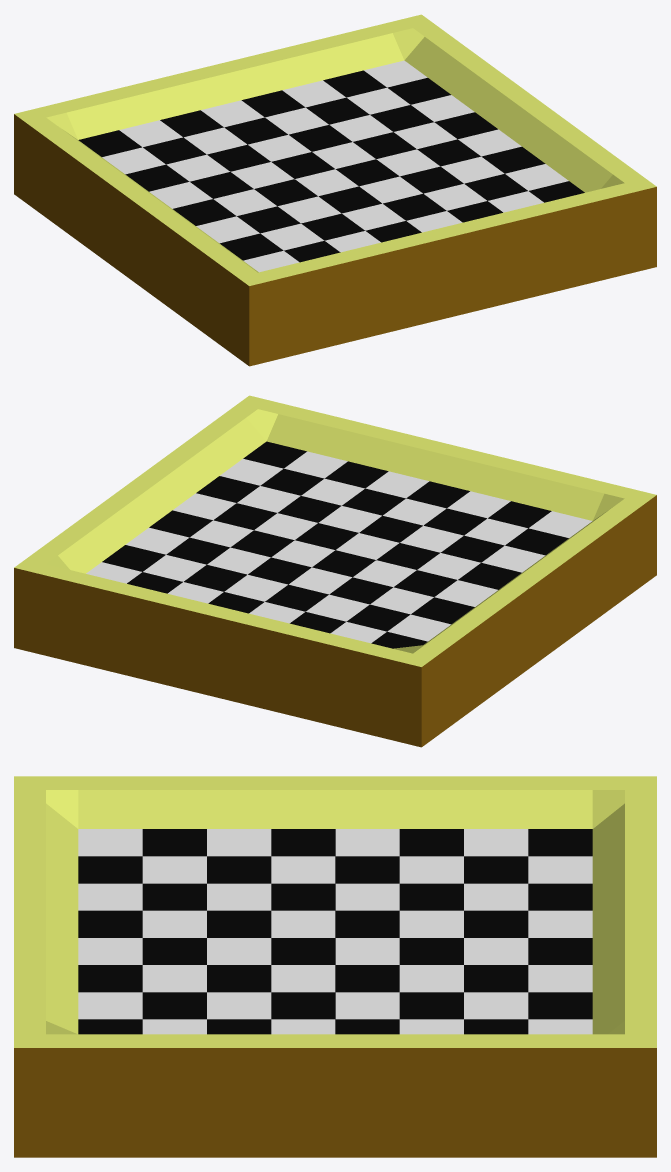
The model's file is Checker_Board.fbx.
3 renders of one model, top to bottom at view 1: azimuth 30°, elevation 25°; view 2: azimuth 150°, elevation 25°; view 3: azimuth 270°, elevation 25°, orthographic. The views are drawn at different scales.
Parts seen in each view (by area): view 1: Cube; view 2: Cube; view 3: Cube.
Boxes of the visible parts, x1,y1,x2,y2 form: Cube: [14, 14, 656, 366]; Cube: [14, 395, 656, 747]; Cube: [14, 776, 656, 1157].
Size of the model in its own units: 2000 by 376 by 2000.
